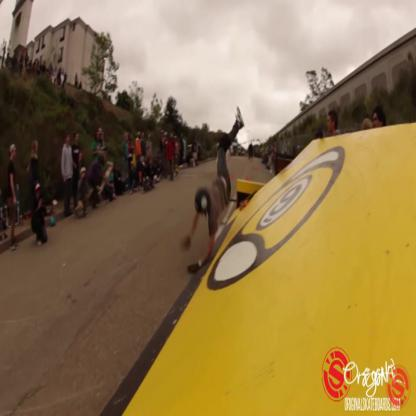Fall_Down: (179, 103, 246, 278)
